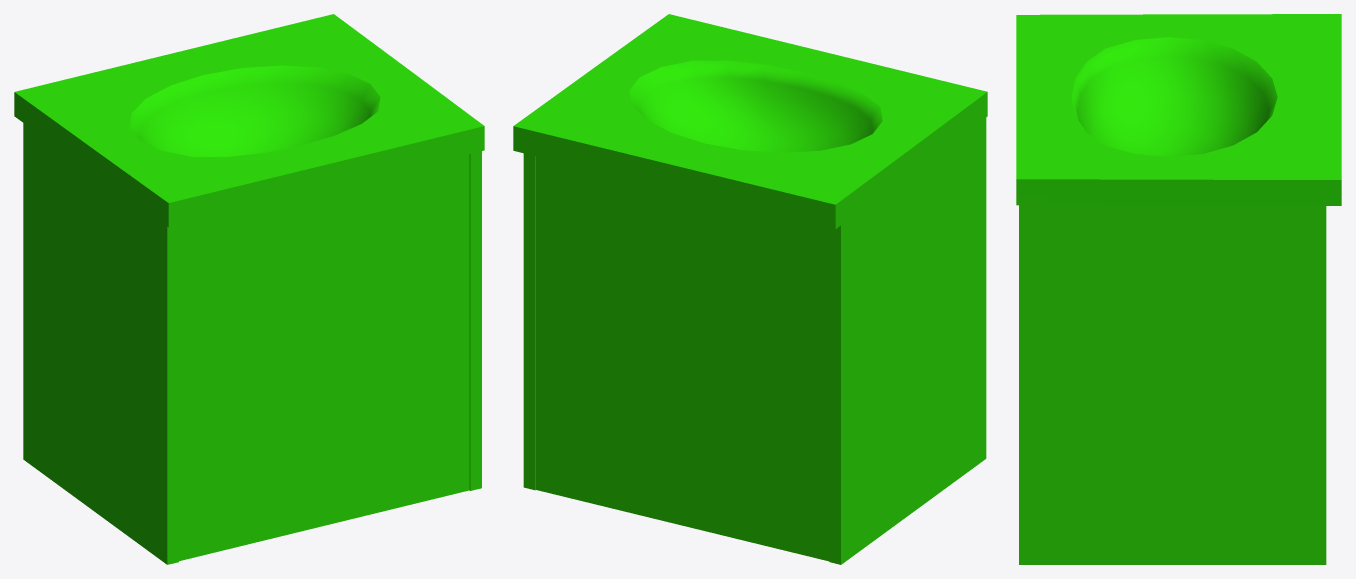
File: Bathroom_Sink_02A_Lod0.fbx
3 views of the same model, side by side, from view 1: azimuth 30°, elevation 25°; view 2: azimuth 150°, elevation 25°; view 3: azimuth 270°, elevation 25° (orthographic). The views are drawn at different scales.
Visible parts, largest first — view 1: Bathroom_Sink_02A_Lod0; view 2: Bathroom_Sink_02A_Lod0; view 3: Bathroom_Sink_02A_Lod0.
Boxes of the visible parts, x1=… form: Bathroom_Sink_02A_Lod0: x1=14, y1=14, x2=484, y2=564; Bathroom_Sink_02A_Lod0: x1=513, y1=14, x2=987, y2=564; Bathroom_Sink_02A_Lod0: x1=1016, y1=14, x2=1341, y2=564.
Bounding box in the file's own units: 85.7 × 92.97 × 70.85.
